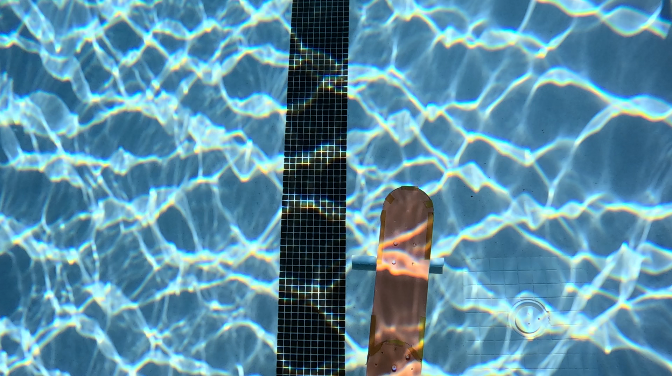pathmarker: (365, 184, 431, 373)
